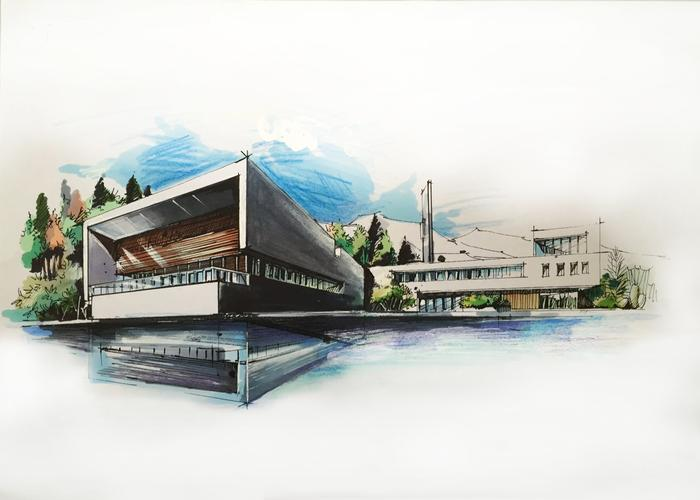buildings: (32, 143, 400, 314)
